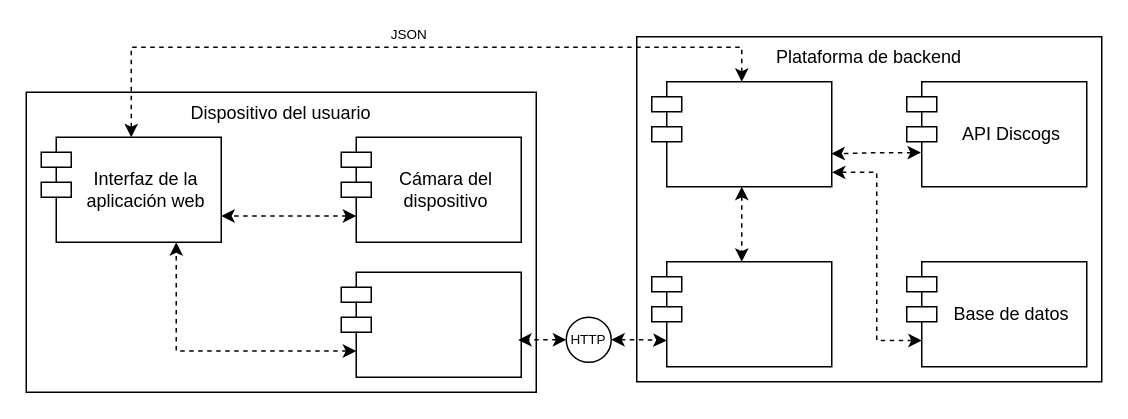
The diagram is 1128 pixels wide and 419 high, and some of its shapes have lost their labels. The shapes that lost their labels are listed below. From the top down, each one's centre as x and y in pixels, then its label:
[741,133]: API REST
[430,324]: Cliente web
[741,313]: Servidor web
